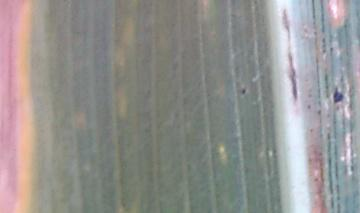tarspot: (329, 84, 350, 111), (236, 84, 251, 98)
